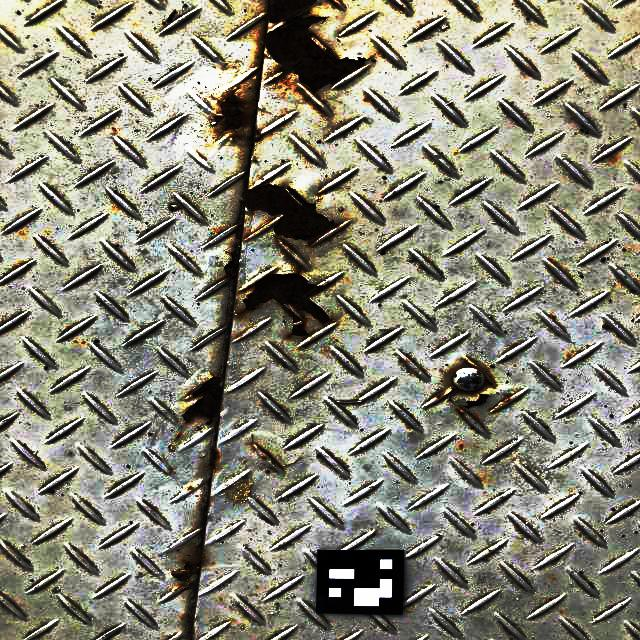Corrosion: (265, 15, 365, 91), (245, 184, 335, 242), (243, 273, 329, 324), (182, 377, 222, 422), (210, 90, 249, 131), (268, 0, 313, 22), (453, 390, 494, 409), (171, 562, 200, 582), (223, 246, 239, 279), (292, 319, 307, 336)
